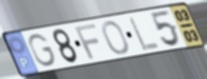5: (148, 8, 183, 48)
8: (52, 28, 79, 65)
F: (73, 22, 101, 61)
G: (28, 33, 58, 68)
L: (127, 15, 161, 53)
O: (101, 19, 131, 56)
